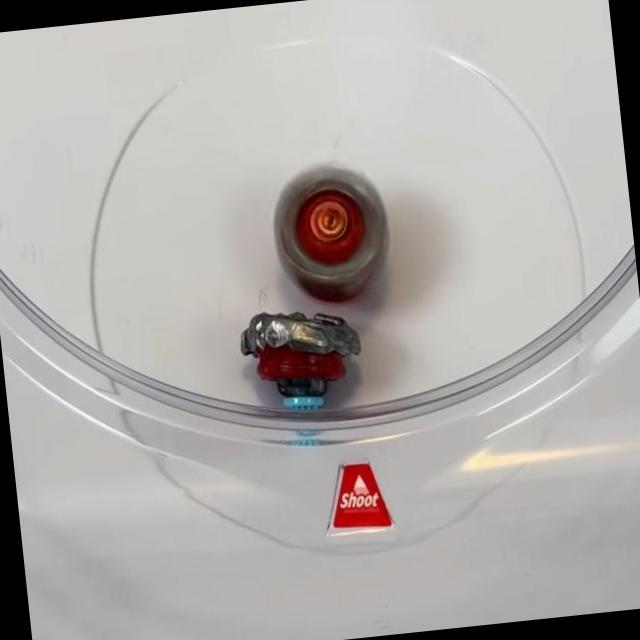Beyblade: (238, 302, 372, 450), (268, 160, 398, 312)
